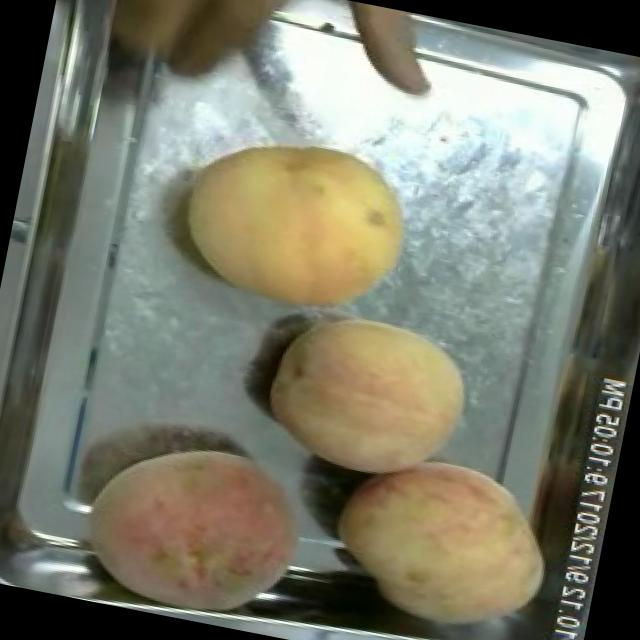Fruit: (164, 109, 433, 339), (63, 413, 326, 632), (314, 429, 571, 640), (247, 288, 490, 502), (68, 0, 320, 113)
